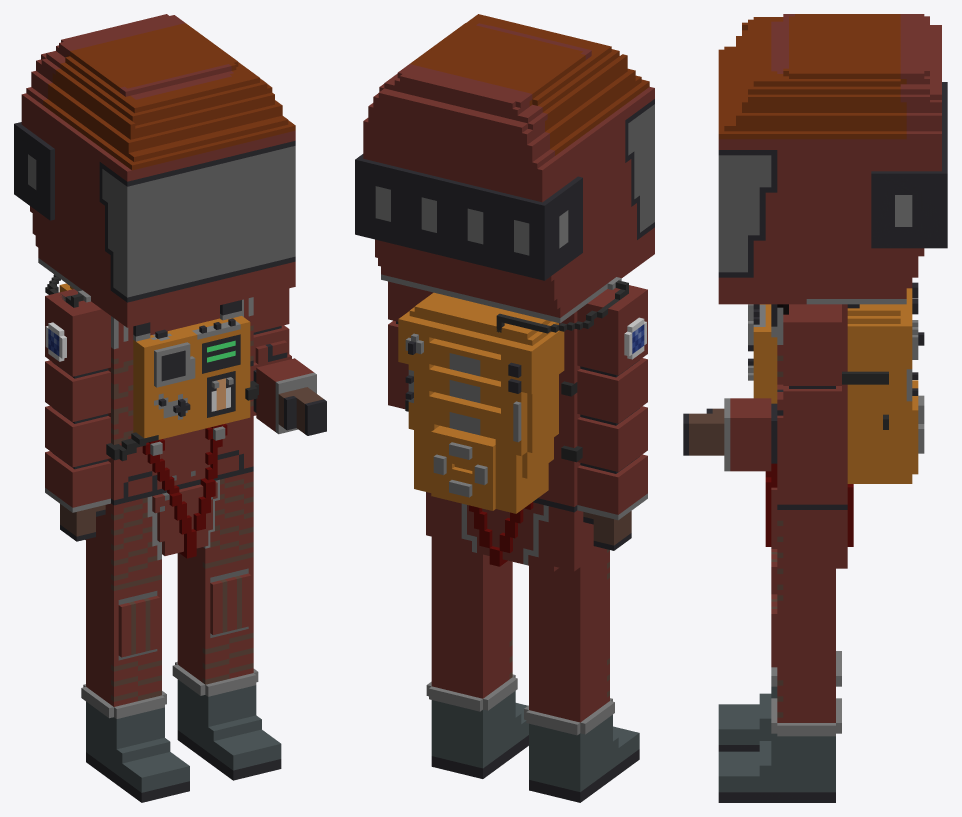
File: astronaut.glb
3 renders of one model, left to right at view 1: azimuth 30°, elevation 25°; view 2: azimuth 150°, elevation 25°; view 3: azimuth 270°, elevation 25°, orthographic. The views are drawn at different scales.
Visible parts, largest first — view 1: astronaut.vox-1; view 2: astronaut.vox-1; view 3: astronaut.vox-1.
Boxes of the visible parts, x1,y1,x2,y2 form: astronaut.vox-1: (14,14,326,802); astronaut.vox-1: (355,14,654,802); astronaut.vox-1: (683,14,947,802).
Size of the model in its own units: 4.6 by 13.6 by 4.5.
3 materials, 2 textured.
